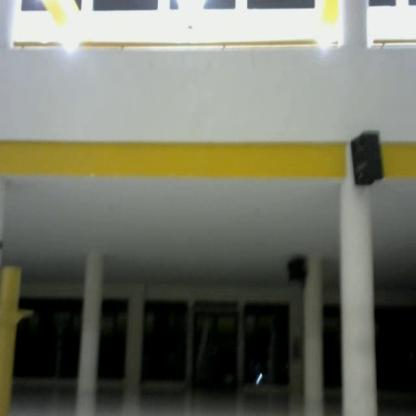pole: (1, 250, 38, 416)
